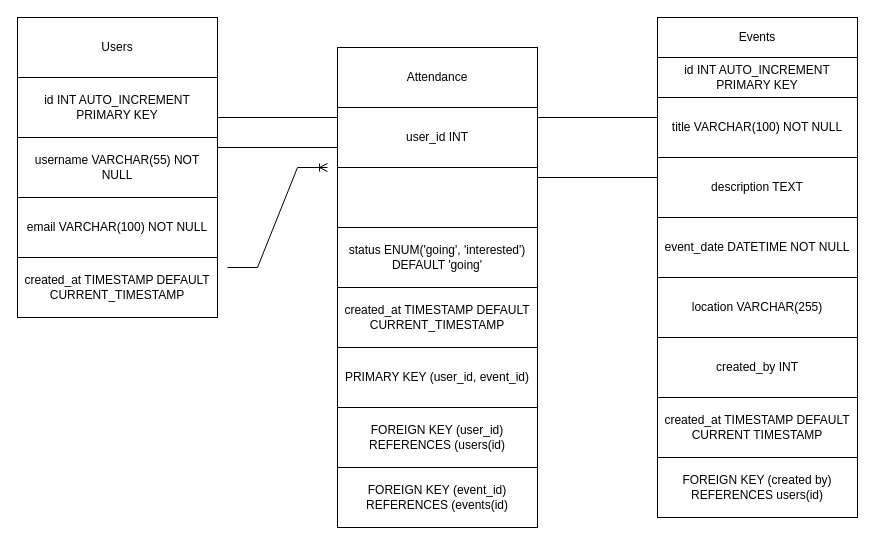
Some shapes in this 875 by 545 pixel diagram are drawn without their labels. Here are the shapes that lost their labels. From the top down, the centre of each, then its label:
At point 277,132: "1:N (Uno a Muchos)".
At point 597,147: "N:1 (Muchos a Uno)".
At point 437,197: "event_id INT".
